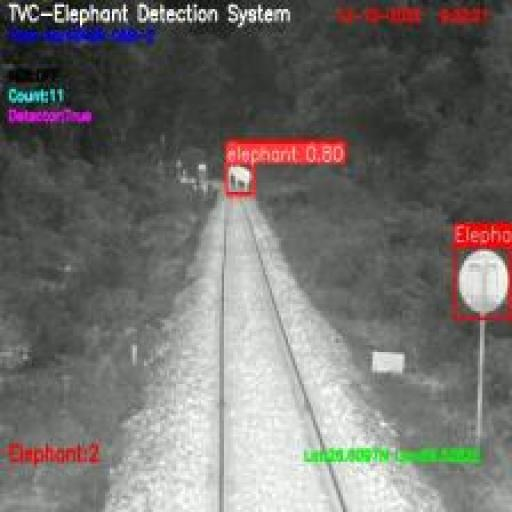Elephant: (226, 162, 253, 196)
